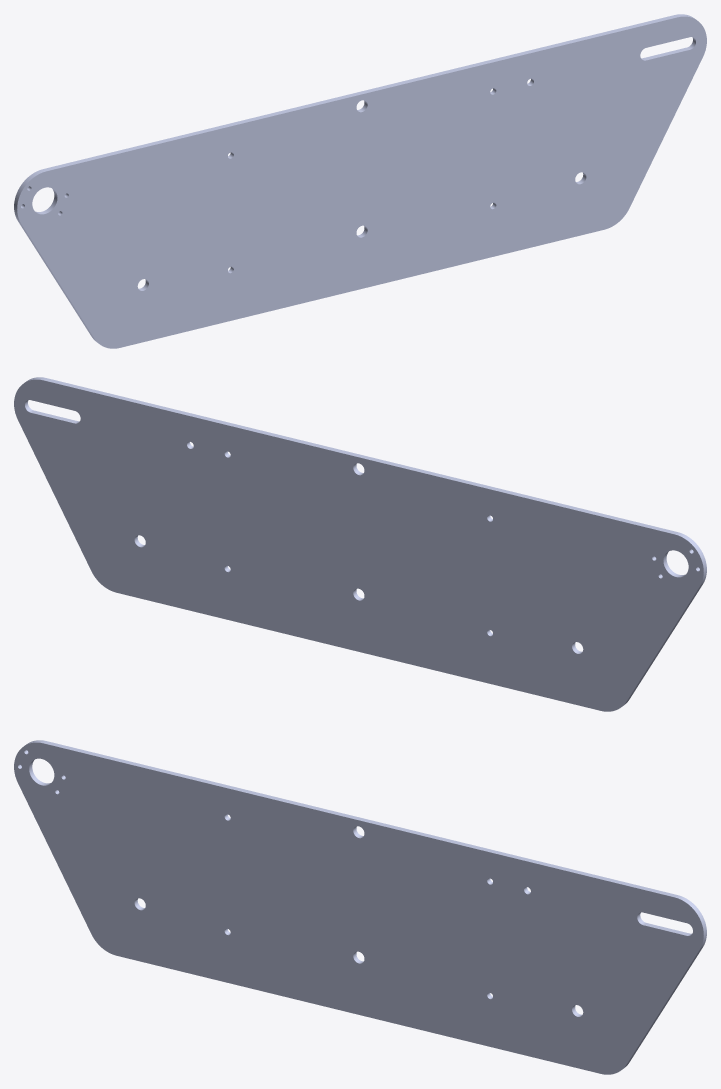
Rendered from _2025_Drivetrain_Working_Interior_Plate_Left_Side_R2.obj.
The picture shows the model from 3 angles, top to bottom: view 1: azimuth 30°, elevation 25°; view 2: azimuth 150°, elevation 25°; view 3: azimuth 330°, elevation 25°; orthographic projection.
Visible parts, largest first — view 1: mesh20708, mesh20717; view 2: mesh20709, mesh20717; view 3: mesh20708, mesh20717.
Part boxes in pixels (x1,y1,x2,y2): mesh20708: [17, 16, 706, 348]; mesh20717: [43, 15, 676, 171]; mesh20709: [14, 379, 703, 711]; mesh20717: [44, 378, 677, 534]; mesh20708: [14, 742, 703, 1074]; mesh20717: [44, 741, 677, 897].
Bounding box in the file's own units: 0.8011 × 0.2159 × 0.00635.
